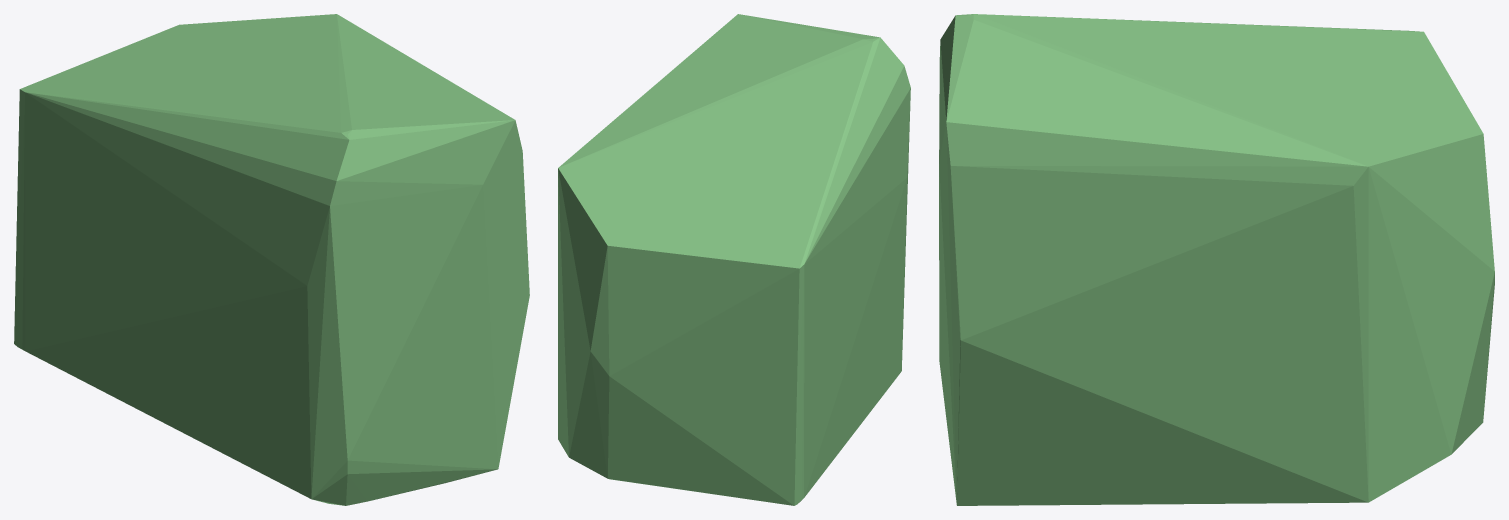
Rendered from equipment_rolling_tool_cabinet_a01.glb.
The picture shows the model from 3 angles, left to right: view 1: azimuth 30°, elevation 25°; view 2: azimuth 150°, elevation 25°; view 3: azimuth 270°, elevation 25°; orthographic projection. The views are drawn at different scales.
Visible parts, largest first — view 1: geometry_0; view 2: geometry_0; view 3: geometry_0.
Boxes of the visible parts, x1,y1,x2,y2 form: geometry_0: (14, 14, 529, 505); geometry_0: (558, 14, 910, 505); geometry_0: (939, 14, 1494, 505).
Bounding box in the file's own units: 0.3371 × 0.3957 × 0.4798.
